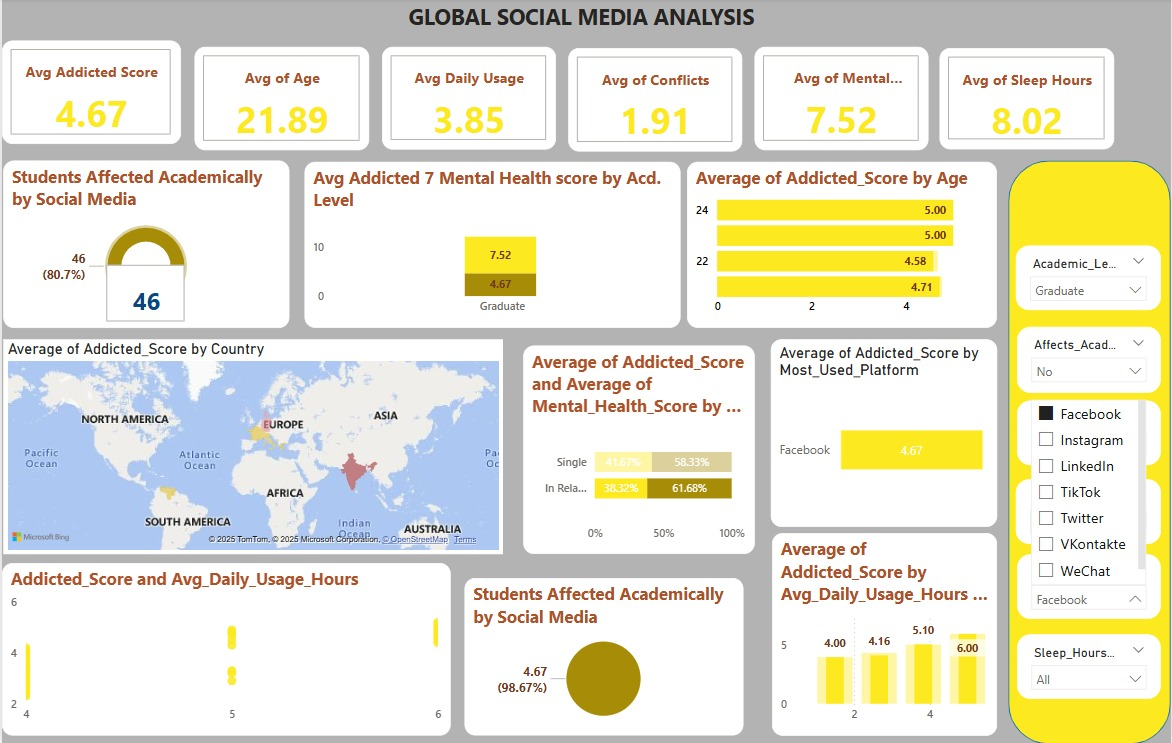

Layout of this report page (visuals, bound fields, positions):
{"tool":"powerbi","page":{"name":"Global Analysis","canvas":[1300,830],"ordinal":0},"visuals":[{"type":"shape","box":[1119.6,180.8,180.8,649.5],"z":0},{"type":"cardVisual","fields":{"Data":["Avg(Students Social Media Addiction.Addicted_Score)"]},"box":[0,47.3,198.9,115.4],"z":1000},{"type":"cardVisual","fields":{"Data":["Avg(Students Social Media Addiction.Age)"]},"box":[214.2,54.2,194.7,115.4],"z":2000},{"type":"cardVisual","fields":{"Data":["Avg(Students Social Media Addiction.Avg_Daily_Usage_Hours)"]},"box":[422.8,54.2,193.3,114],"z":3000},{"type":"cardVisual","fields":{"Data":["Avg(Students Social Media Addiction.Conflicts_Over_Social_Media)"]},"box":[630,55.6,193.3,115.4],"z":4000},{"type":"cardVisual","fields":{"Data":["Avg(Students Social Media Addiction.Mental_Health_Score)"]},"box":[837.2,54.2,193.3,115.4],"z":5000},{"type":"cardVisual","fields":{"Data":["Avg(Students Social Media Addiction.Sleep_Hours_Per_Night)"]},"box":[1043.1,55.6,194.7,112.7],"z":6000},{"type":"columnChart","title":"Avg Addicted 7 Mental Health score by Acd. Level","fields":{"Category":["Students Social Media Addiction.Academic_Level"],"Y":["Avg(Students Social Media Addiction.Addicted_Score)","Avg(Students Social Media Addiction.Mental_Health_Score)"]},"box":[336.6,182.2,418.6,185],"z":7000},{"type":"donutChart","title":"Students Affected Academically by Social Media","fields":{"Category":["Students Social Media Addiction.Affects_Academic_Performance"],"Y":["CountNonNull(Students Social Media Addiction.Student_ID)"]},"box":[1.4,180.8,318.5,186.4],"z":8000},{"type":"cardVisual","fields":{"Data":["Count(Students Social Media Addiction.Student_ID)"]},"box":[100.1,292.1,97.4,75.1],"z":9000},{"type":"clusteredBarChart","fields":{"Category":["Students Social Media Addiction.Age"],"Y":["Avg(Students Social Media Addiction.Addicted_Score)"]},"box":[762.1,182.2,344.9,185],"z":10000},{"type":"slicer","fields":{"Values":["Students Social Media Addiction.Academic_Level"]},"box":[1127.9,275.4,161.3,72.3],"z":11000},{"type":"slicer","fields":{"Values":["Students Social Media Addiction.Affects_Academic_Performance"]},"box":[1129.3,365.8,159.9,73.7],"z":12000},{"type":"slicer","fields":{"Values":["Students Social Media Addiction.Country"]},"box":[1129.3,447.8,159.9,72.3],"z":13000},{"type":"slicer","fields":{"Values":["Students Social Media Addiction.Gender"]},"box":[1127.9,535.4,161.3,72.3],"z":14000},{"type":"slicer","fields":{"Values":["Students Social Media Addiction.Most_Used_Platform"]},"box":[1129.3,618.9,159.9,72.3],"z":15000},{"type":"filledMap","fields":{"Category":["Students Social Media Addiction.Country"]},"box":[1.4,379.7,556.3,239.2],"z":16000},{"type":"pieChart","title":"Students Affected Academically by Social Media","fields":{"Category":["Students Social Media Addiction.Gender"],"Y":["Avg(Students Social Media Addiction.Addicted_Score)"]},"box":[514.6,645.3,310.1,175.2],"z":17000},{"type":"funnel","fields":{"Category":["Students Social Media Addiction.Most_Used_Platform"],"Y":["Avg(Students Social Media Addiction.Addicted_Score)"]},"box":[855.3,379.7,251.7,208.6],"z":18000},{"type":"hundredPercentStackedBarChart","fields":{"Category":["Students Social Media Addiction.Relationship_Status"],"Y":["Avg(Students Social Media Addiction.Addicted_Score)","Avg(Students Social Media Addiction.Mental_Health_Score)"]},"box":[579.9,386.6,257.3,232.3],"z":19000},{"type":"lineStackedColumnComboChart","fields":{"Y":["Avg(Students Social Media Addiction.Addicted_Score)"],"Category":["Students Social Media Addiction.Avg_Daily_Usage_Hours (bins)"]},"box":[856.7,595.2,250.3,225.3],"z":20000},{"type":"scatterChart","fields":{"X":["Students Social Media Addiction.Addicted_Score"],"Y":["Students Social Media Addiction.Avg_Daily_Usage_Hours"]},"box":[0,628.6,499.3,191.9],"z":21000},{"type":"textbox","box":[0,0,1289.2,47.3],"z":22000},{"type":"slicer","fields":{"Values":["Students Social Media Addiction.Sleep_Hours_Per_Night"]},"box":[1129.3,707.9,159.9,72.3],"z":23000}]}

Visuals, with their boxes in screenshot pixels (x1, y1, x2, y2), scaled from the page's 1300x830 canvas onto the 1172x743 screenshot:
shape: {"left": 1009, "top": 162, "right": 1171, "bottom": 742}
cardVisual - Avg(Students Social Media Addiction.Addicted_Score): {"left": 0, "top": 42, "right": 179, "bottom": 146}
cardVisual - Avg(Students Social Media Addiction.Age): {"left": 193, "top": 49, "right": 369, "bottom": 152}
cardVisual - Avg(Students Social Media Addiction.Avg_Daily_Usage_Hours): {"left": 381, "top": 49, "right": 555, "bottom": 151}
cardVisual - Avg(Students Social Media Addiction.Conflicts_Over_Social_Media): {"left": 568, "top": 50, "right": 742, "bottom": 153}
cardVisual - Avg(Students Social Media Addiction.Mental_Health_Score): {"left": 755, "top": 49, "right": 929, "bottom": 152}
cardVisual - Avg(Students Social Media Addiction.Sleep_Hours_Per_Night): {"left": 940, "top": 50, "right": 1116, "bottom": 151}
"Avg Addicted 7 Mental Health score by Acd. Level" columnChart: {"left": 303, "top": 163, "right": 681, "bottom": 329}
"Students Affected Academically by Social Media" donutChart: {"left": 1, "top": 162, "right": 288, "bottom": 329}
cardVisual - Count(Students Social Media Addiction.Student_ID): {"left": 90, "top": 261, "right": 178, "bottom": 329}
clusteredBarChart - Students Social Media Addiction.Age x Avg(Students Social Media Addiction.Addicted_Score): {"left": 687, "top": 163, "right": 998, "bottom": 329}
slicer - Students Social Media Addiction.Academic_Level: {"left": 1017, "top": 247, "right": 1162, "bottom": 311}
slicer - Students Social Media Addiction.Affects_Academic_Performance: {"left": 1018, "top": 327, "right": 1162, "bottom": 393}
slicer - Students Social Media Addiction.Country: {"left": 1018, "top": 401, "right": 1162, "bottom": 466}
slicer - Students Social Media Addiction.Gender: {"left": 1017, "top": 479, "right": 1162, "bottom": 544}
slicer - Students Social Media Addiction.Most_Used_Platform: {"left": 1018, "top": 554, "right": 1162, "bottom": 619}
filledMap - Students Social Media Addiction.Country: {"left": 1, "top": 340, "right": 503, "bottom": 554}
"Students Affected Academically by Social Media" pieChart: {"left": 464, "top": 578, "right": 743, "bottom": 734}
funnel - Students Social Media Addiction.Most_Used_Platform x Avg(Students Social Media Addiction.Addicted_Score): {"left": 771, "top": 340, "right": 998, "bottom": 527}
hundredPercentStackedBarChart - Students Social Media Addiction.Relationship_Status x Avg(Students Social Media Addiction.Addicted_Score): {"left": 523, "top": 346, "right": 755, "bottom": 554}
lineStackedColumnComboChart - Avg(Students Social Media Addiction.Addicted_Score) x Students Social Media Addiction.Avg_Daily_Usage_Hours (bins): {"left": 772, "top": 533, "right": 998, "bottom": 734}
scatterChart - Students Social Media Addiction.Addicted_Score x Students Social Media Addiction.Avg_Daily_Usage_Hours: {"left": 0, "top": 563, "right": 450, "bottom": 734}
textbox: {"left": 0, "top": 0, "right": 1162, "bottom": 42}
slicer - Students Social Media Addiction.Sleep_Hours_Per_Night: {"left": 1018, "top": 634, "right": 1162, "bottom": 698}
